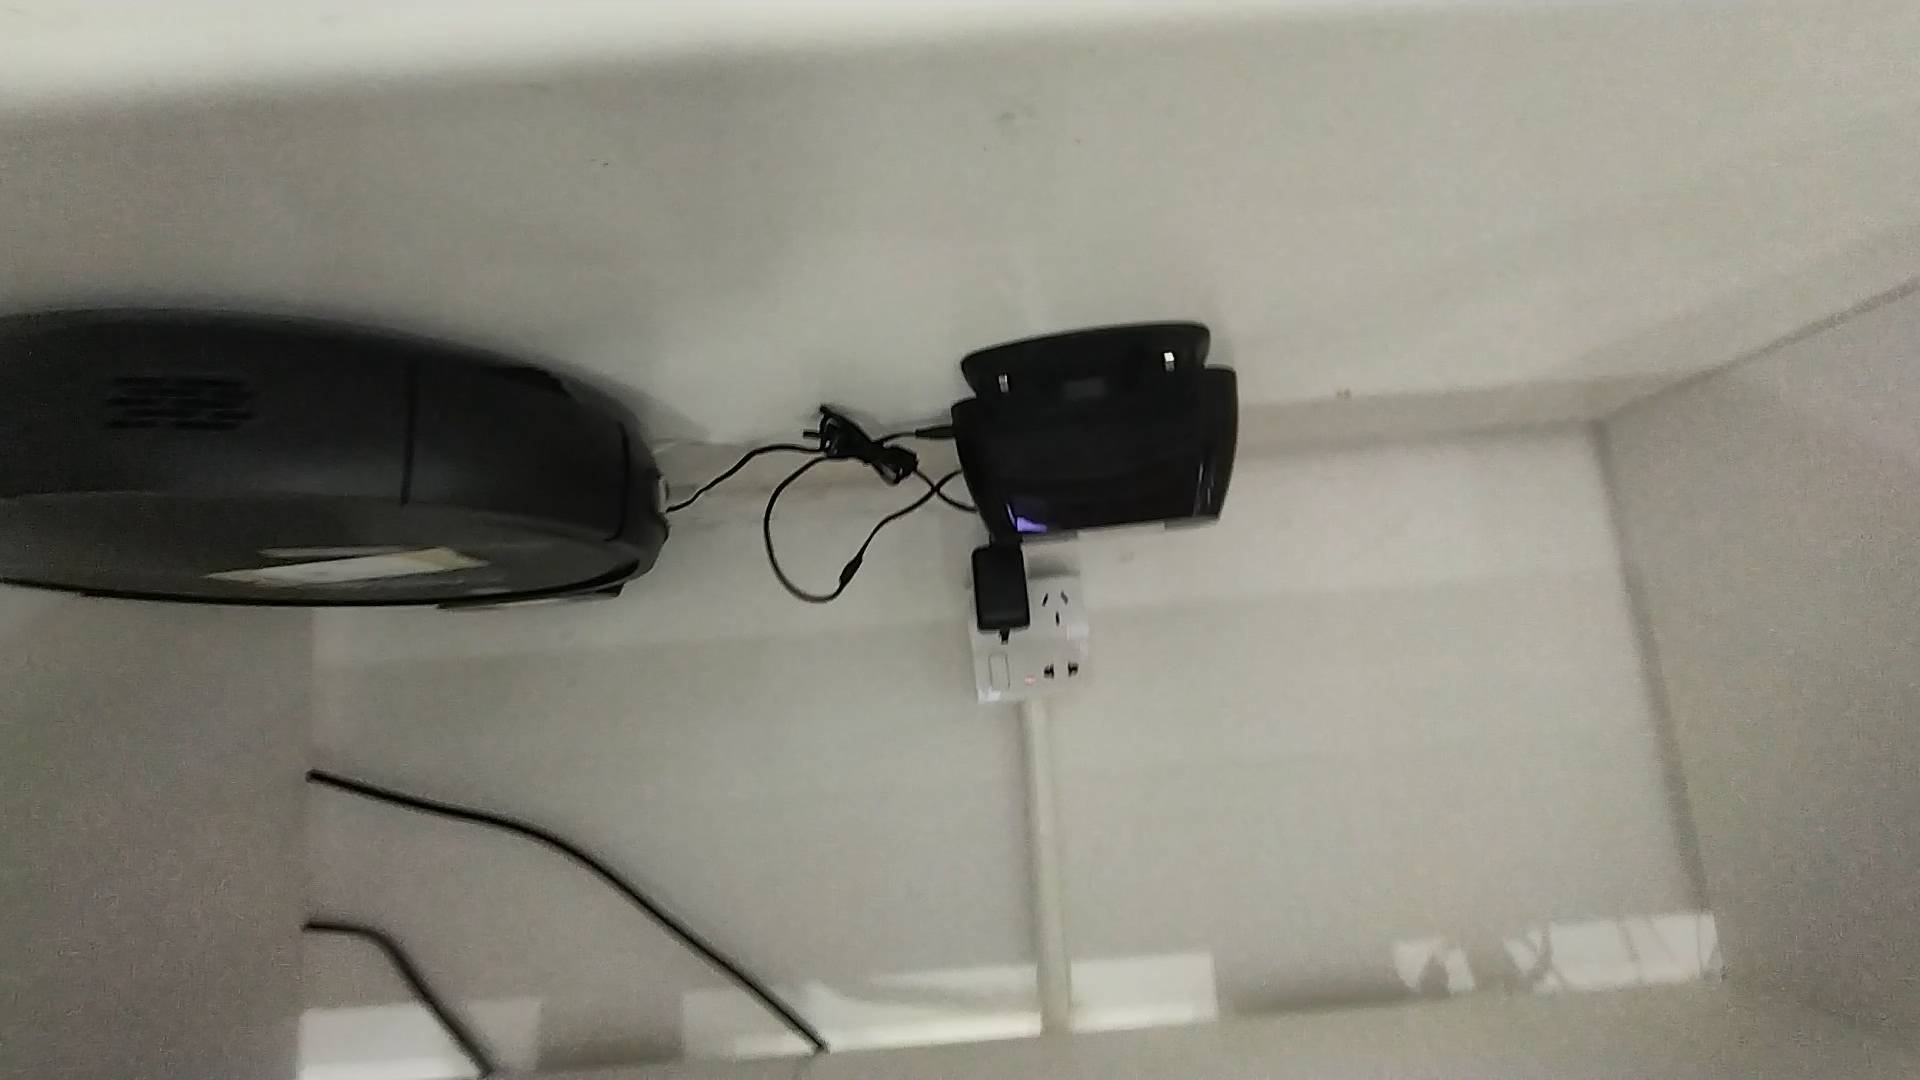recharge seat: (953, 320, 1250, 541)
